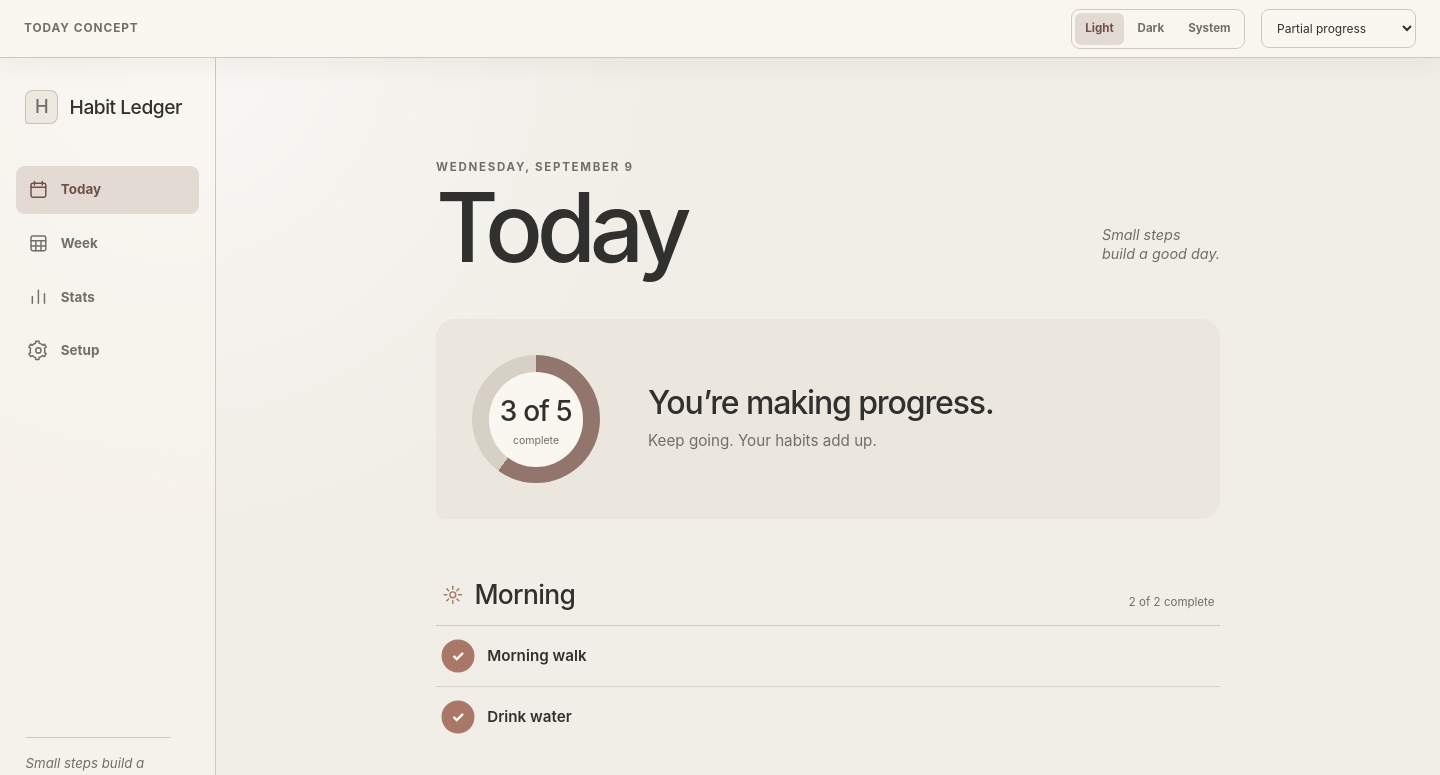
Test: TodayConcept › previews empty, loading, and error states
The image size is (1440, 775).
Select "Empty day" in the dropdown named "State" at (1338, 29), box [1261,10,1416,48]
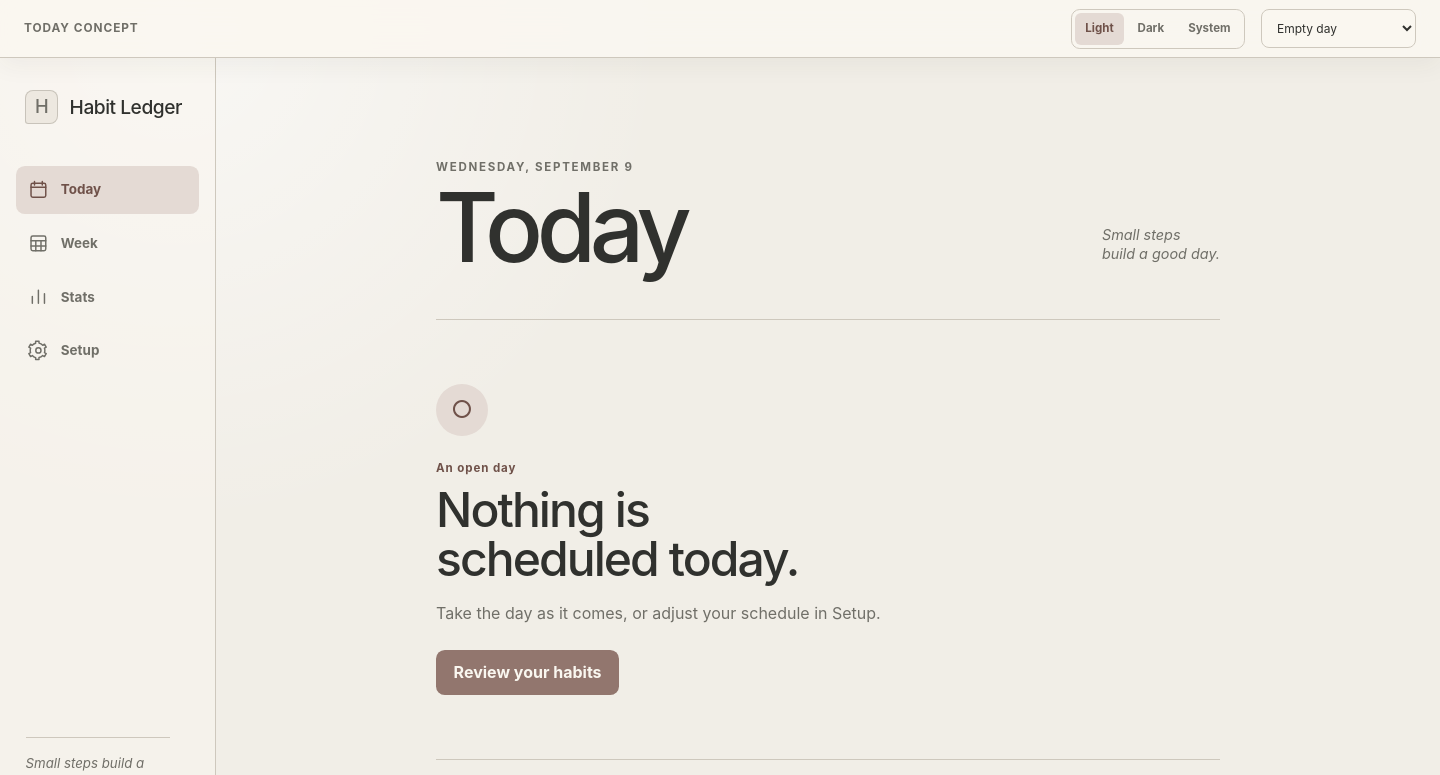
Now the heading "Nothing is scheduled today." is shown, box [436,480,798,588]
Select "Loading" in the dropdown named "State" at (1338, 29), box [1261,10,1416,48]
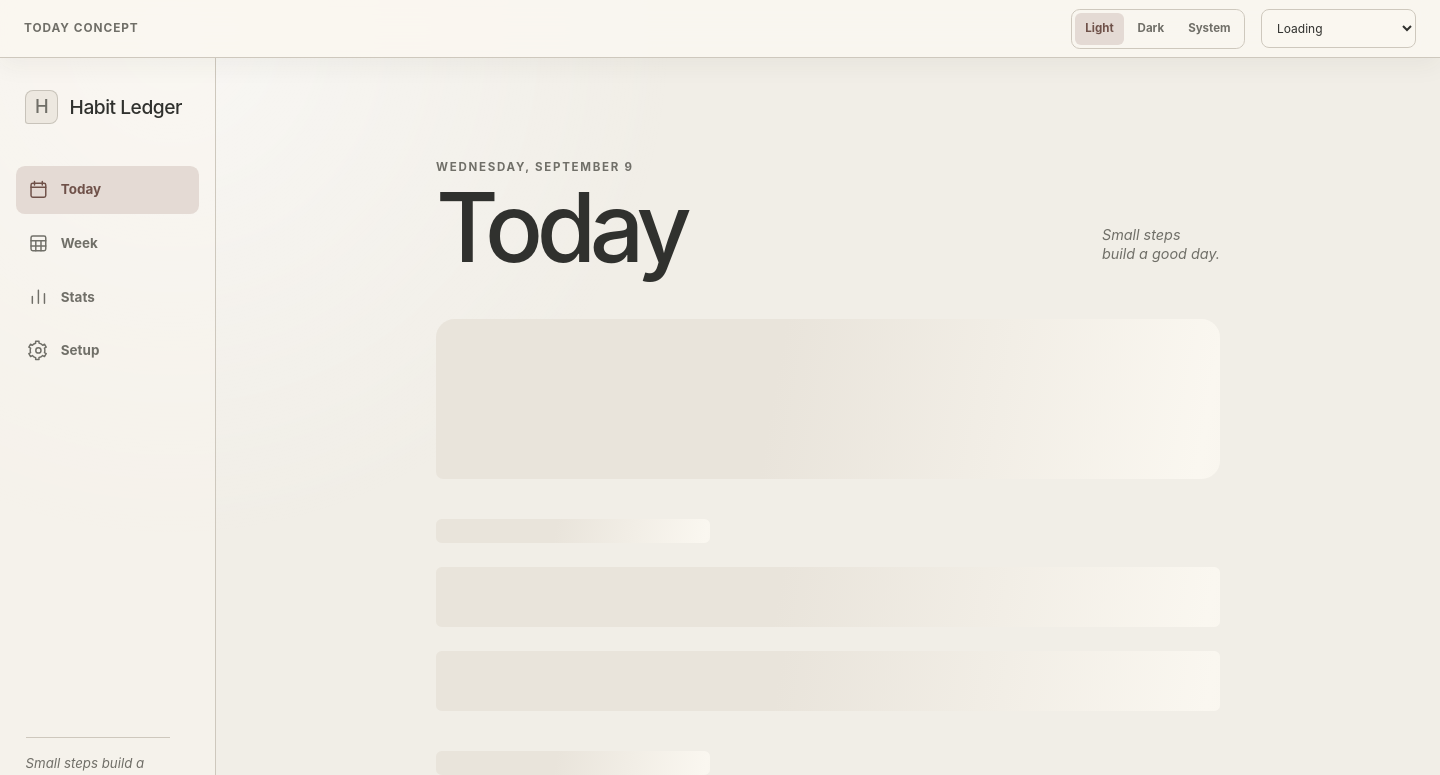
Select "Error" in the dropdown named "State" at (1338, 29), box [1261,10,1416,48]
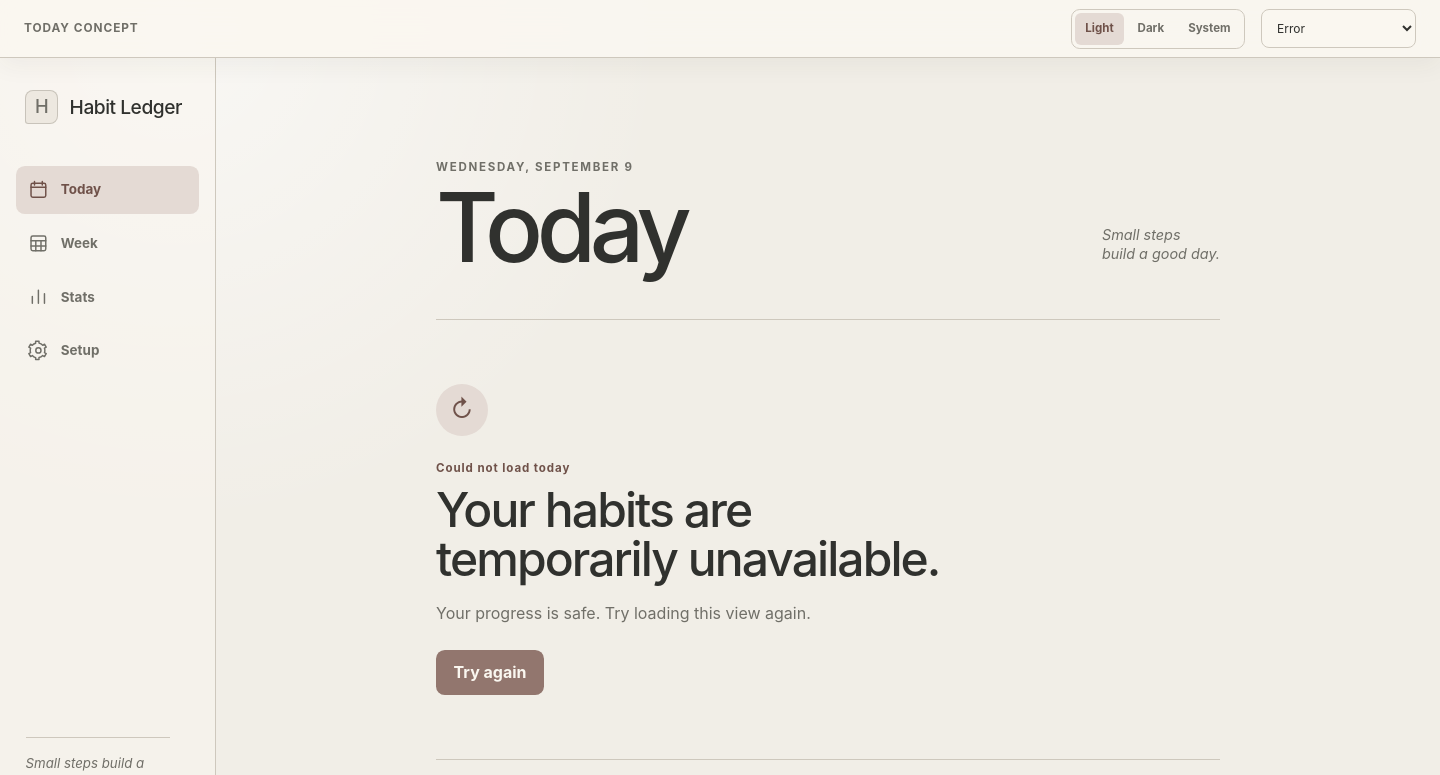
Now the message shows "Your habits are temporarily unavailable.", box [436,480,940,588]
